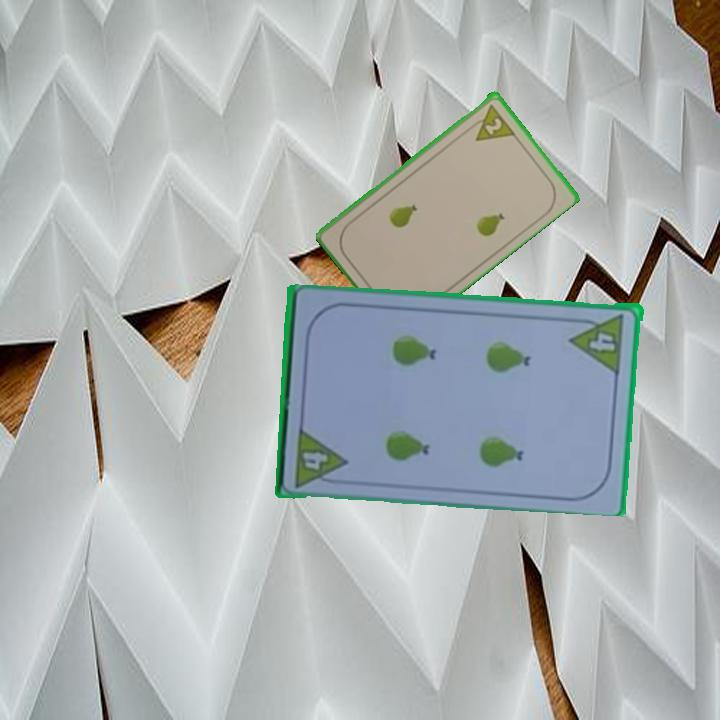2p: (464, 100, 517, 144)
4p: (291, 424, 351, 490), (568, 310, 628, 375)
